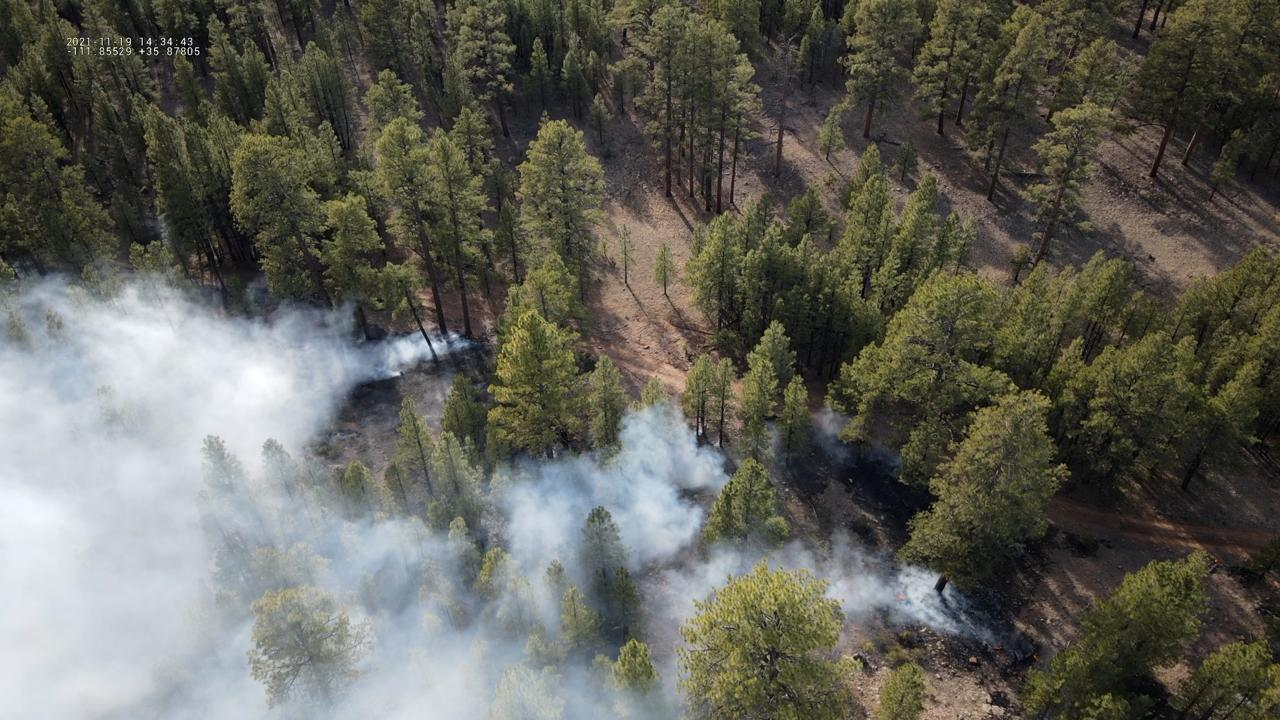fire: (893, 591, 907, 602), (1034, 655, 1040, 663)
smoke: (0, 264, 734, 720), (744, 523, 993, 643), (808, 401, 859, 467), (758, 420, 787, 463), (867, 448, 904, 469)
